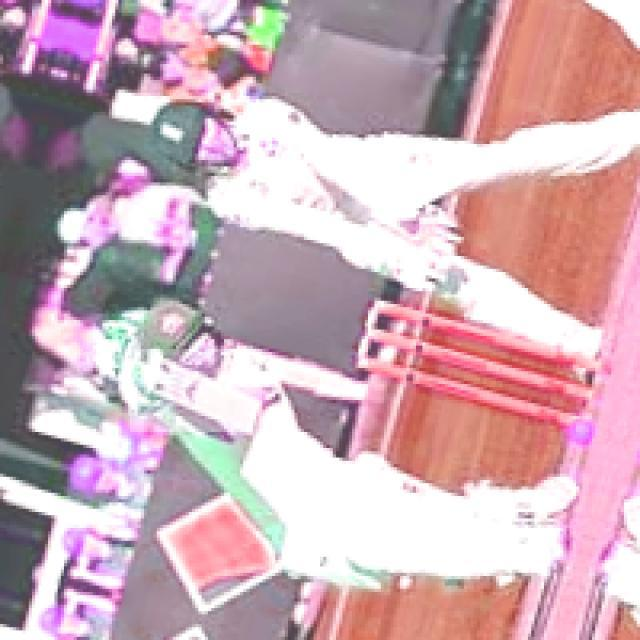bat: (115, 353, 292, 451)
toe: (243, 403, 264, 435)
